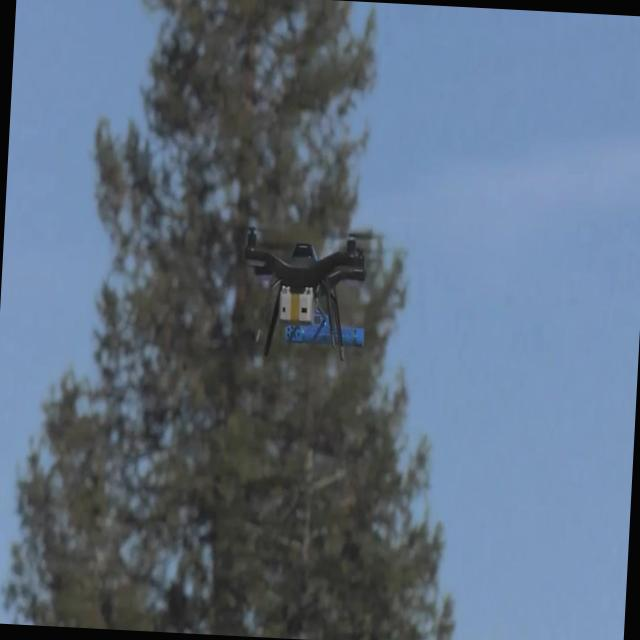drone: (232, 220, 381, 370)
